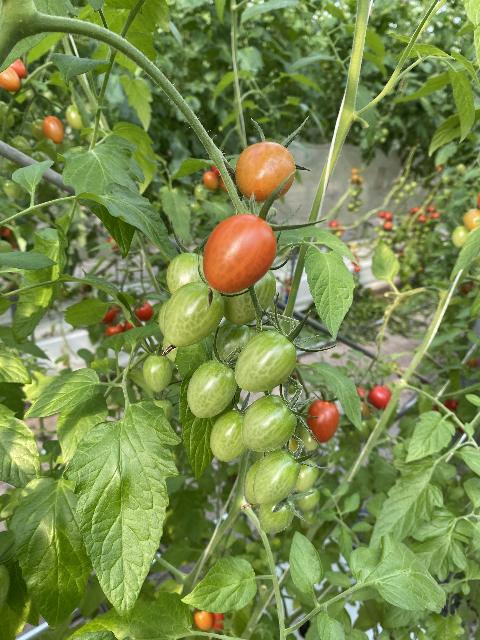l_fully_ripened: (307, 400, 340, 444), (368, 385, 392, 410)
l_green: (234, 330, 298, 392), (164, 281, 223, 347), (240, 394, 298, 452), (221, 269, 277, 325), (186, 359, 237, 418), (253, 449, 300, 504), (210, 410, 250, 463), (211, 323, 257, 369), (166, 251, 210, 296), (259, 494, 295, 533), (143, 355, 172, 392), (244, 459, 263, 505), (153, 399, 172, 423)
l_half_ripened: (202, 213, 277, 294), (235, 141, 296, 203)
